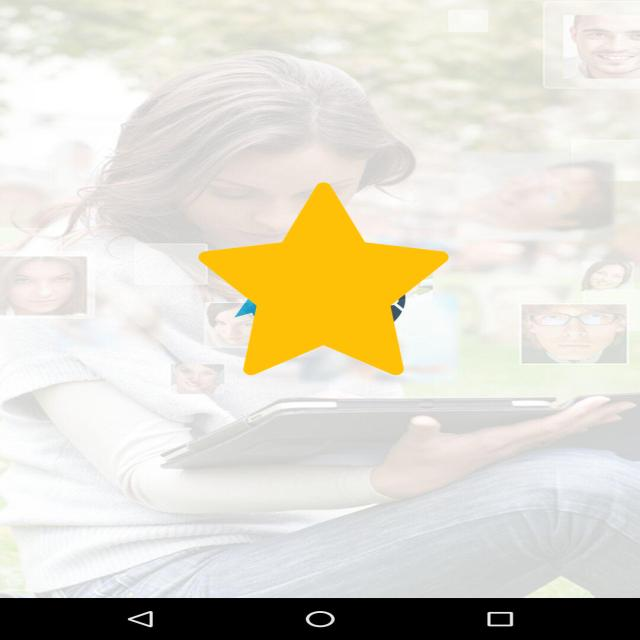forced continuity: (198, 182, 448, 376)
